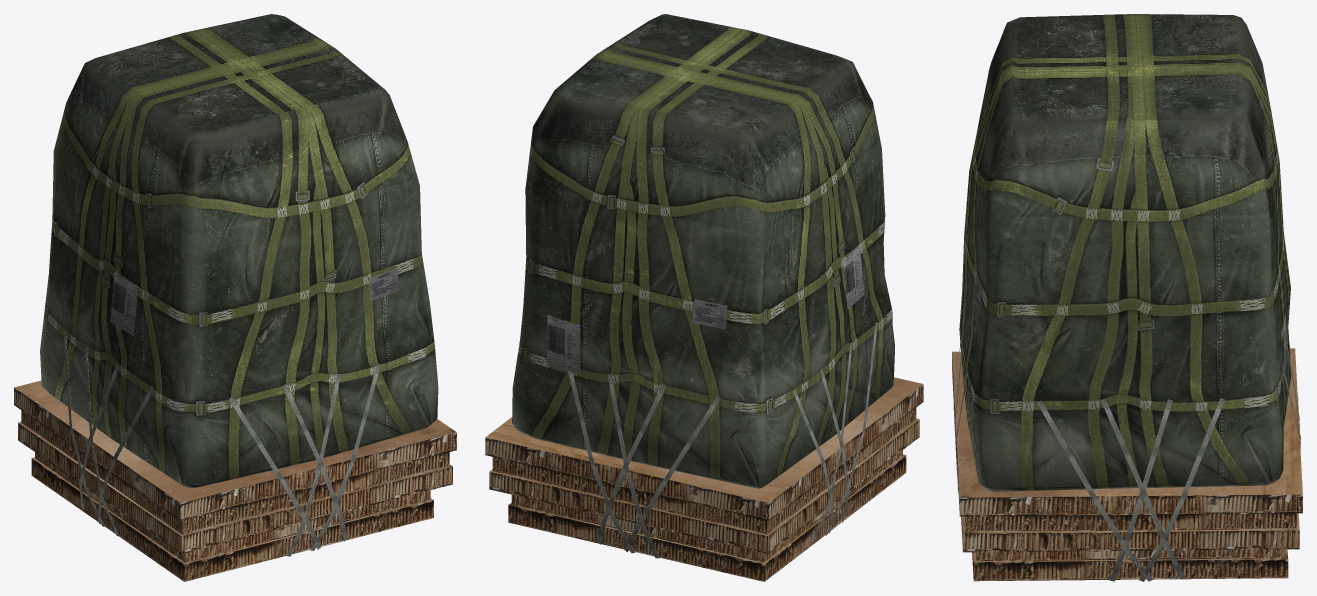
File: VV_airdrop_001.fbx
The picture shows the model from 3 angles, left to right: view 1: azimuth 30°, elevation 25°; view 2: azimuth 150°, elevation 25°; view 3: azimuth 270°, elevation 25°; orthographic projection. The views are drawn at different scales.
Visible parts, largest first — view 1: VV_airdrop_001; view 2: VV_airdrop_001; view 3: VV_airdrop_001.
Boxes of the visible parts, box(x1,y1,x2,y2) form: VV_airdrop_001: box(14, 14, 456, 581); VV_airdrop_001: box(485, 14, 923, 581); VV_airdrop_001: box(952, 14, 1302, 581).
Size of the model in its own units: 245 by 351 by 244.
Materials: 1 (1 with a texture image).
